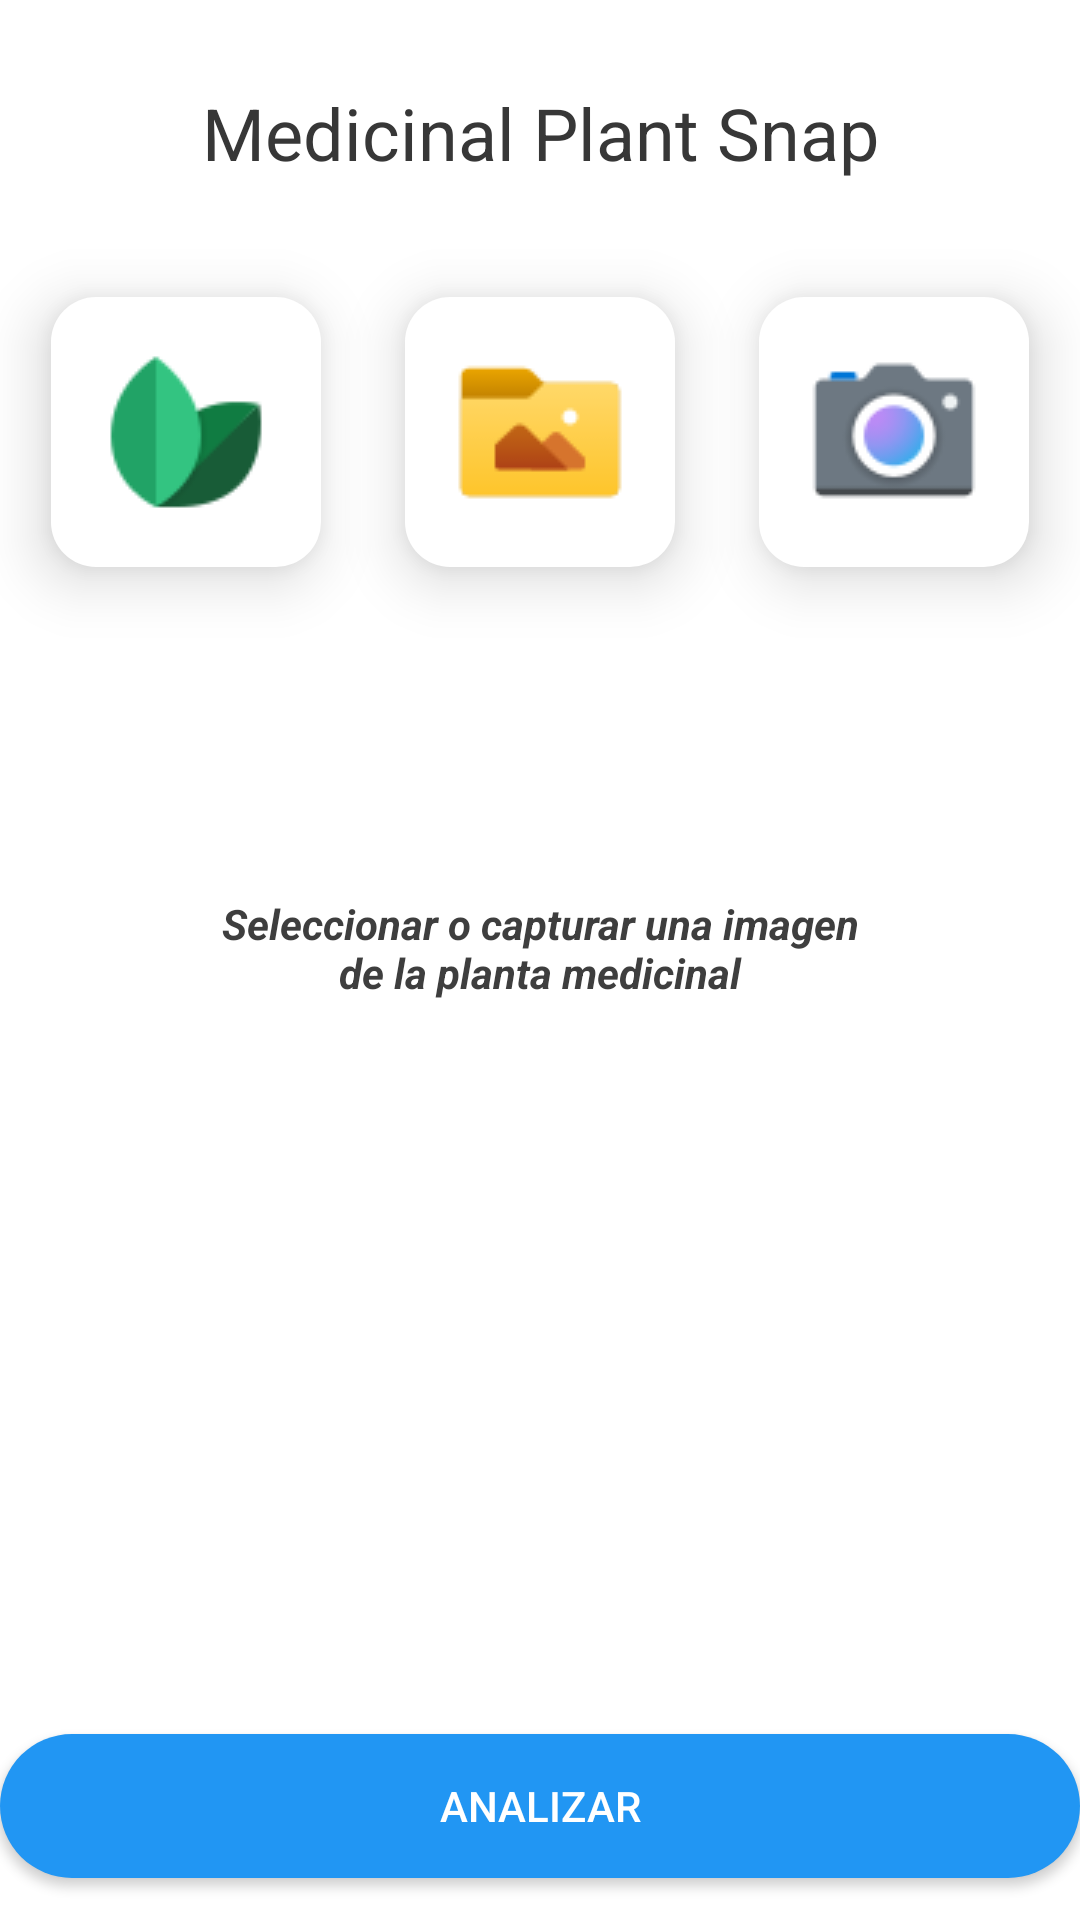

Locate icon controls on the screen. Image size 1080 × 1920, boxes as (x1, y1, x2, y2).
camara: (759, 297, 1029, 567)
selectimg: (459, 366, 621, 498)
